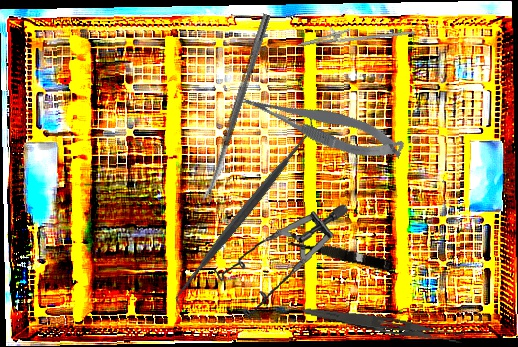Dressing Forceps: (301, 304, 466, 347)
Micro Scissor: (236, 72, 408, 176), (281, 233, 395, 273)
Needle Holder: (295, 9, 416, 60)
Spatula Surgical: (161, 112, 329, 310)
Speculum: (209, 203, 359, 323)
Surgical Spoon: (201, 12, 271, 205)
